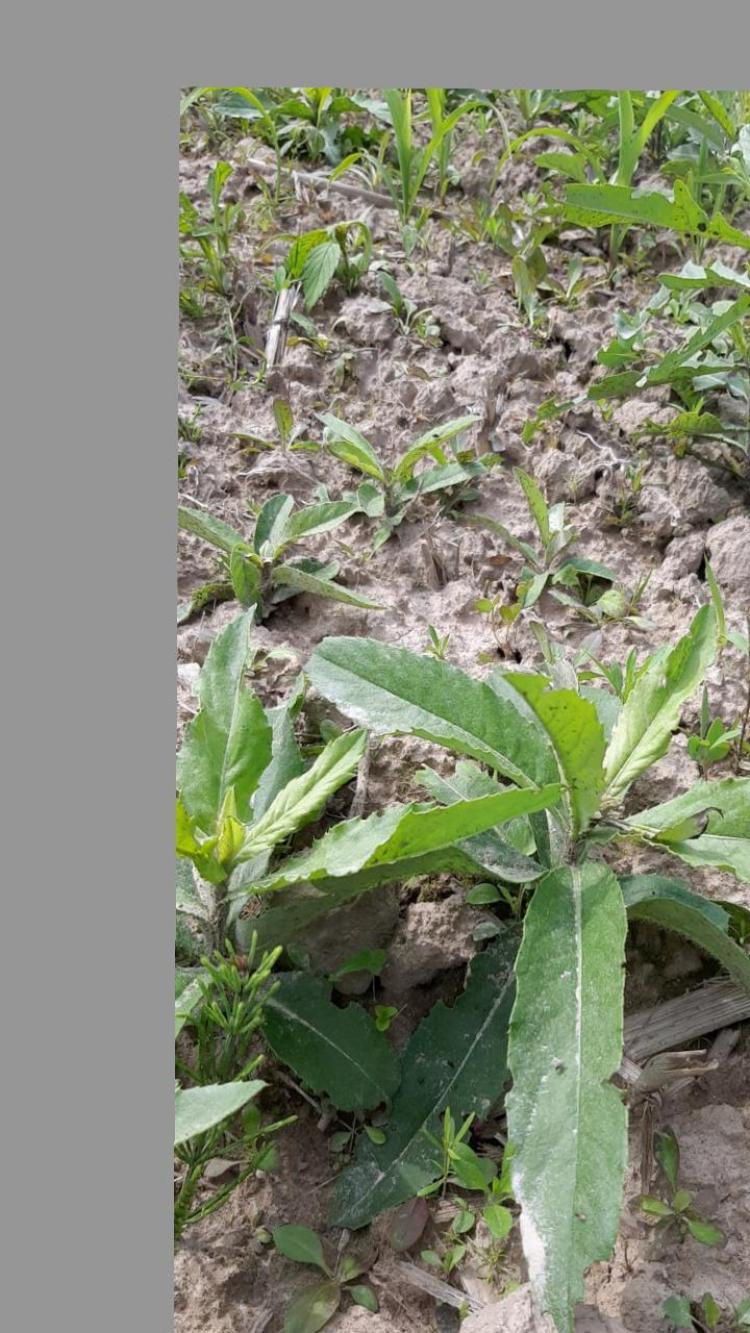osot: (296, 627, 750, 1320)
